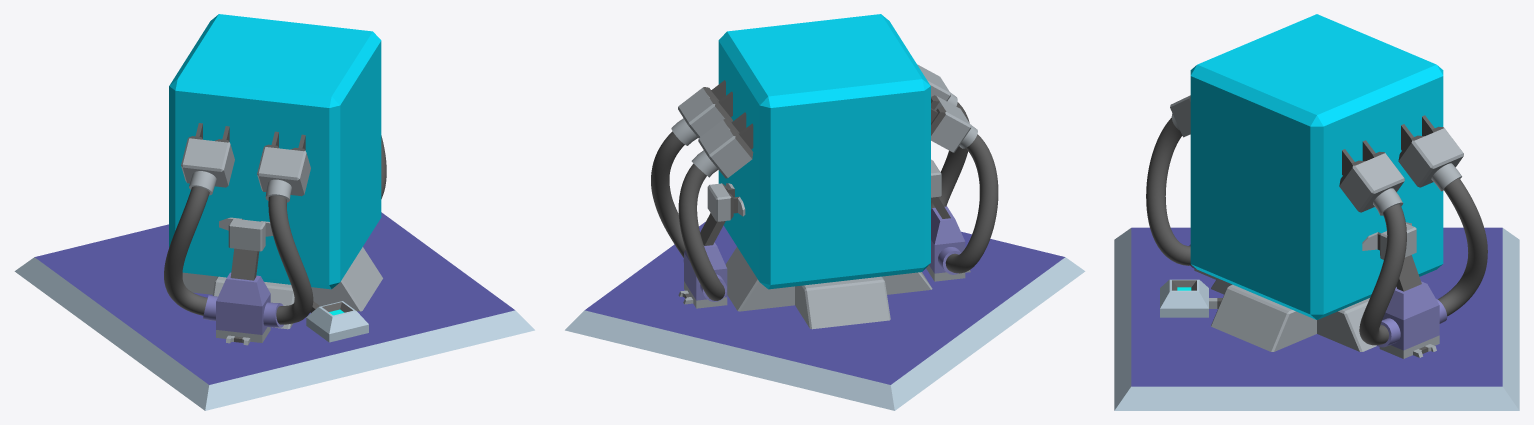
The model's file is Reservoir7.fbx.
The picture shows the model from 3 angles, left to right: view 1: azimuth 30°, elevation 25°; view 2: azimuth 150°, elevation 25°; view 3: azimuth 270°, elevation 25°; orthographic projection. The views are drawn at different scales.
Parts seen in each view (by area): view 1: pCube114, foundation_7, pCube143, pCylinder105, installation7, pCylinder106, pCube155, pCube156, alch_base7, pCube119; view 2: pCube114, foundation_7, installation7, pCylinder106 (×2), pCylinder105 (×2), pCube156 (×2), pCube155 (×2), pCube143, pCube157, pCube119; view 3: pCube114, foundation_7, pCylinder105 (×2), installation7, pCylinder106, pCube157, pCube155 (×2), pCube156, alch_base7, pCube119.
Part boxes in pixels (left/top/right/bottom): pCube114: left=169, top=14, right=381, bottom=289; foundation_7: left=14, top=212, right=534, bottom=410; pCube143: left=216, top=248, right=270, bottom=342; pCylinder105: left=263, top=179, right=313, bottom=327; installation7: left=182, top=247, right=382, bottom=329; pCylinder106: left=164, top=171, right=217, bottom=320; pCube155: left=257, top=131, right=310, bottom=196; pCube156: left=181, top=123, right=234, bottom=187; alch_base7: left=306, top=301, right=368, bottom=342; pCube119: left=219, top=217, right=272, bottom=251; pCube114: left=718, top=14, right=930, bottom=289; foundation_7: left=565, top=221, right=1085, bottom=410; installation7: left=725, top=247, right=932, bottom=329; pCylinder106 (×2): left=651, top=118, right=998, bottom=274; pCylinder105 (×2): left=678, top=92, right=969, bottom=301; pCube156 (×2): left=678, top=80, right=971, bottom=152; pCube155 (×2): left=698, top=64, right=950, bottom=178; pCube143: left=926, top=197, right=965, bottom=281; pCube157: left=684, top=213, right=727, bottom=308; pCube119: left=707, top=183, right=745, bottom=221; pCube114: left=1190, top=14, right=1443, bottom=319; foundation_7: left=1114, top=227, right=1519, bottom=410; pCylinder105 (×2): left=1146, top=113, right=1487, bottom=323; installation7: left=1211, top=278, right=1376, bottom=351; pCylinder106: left=1359, top=188, right=1406, bottom=347; pCube157: left=1379, top=255, right=1439, bottom=358; pCube155 (×2): left=1170, top=95, right=1463, bottom=187; pCube156: left=1339, top=140, right=1404, bottom=212; alch_base7: left=1160, top=279, right=1208, bottom=317; pCube119: left=1362, top=222, right=1416, bottom=259.
Size of the model in its own units: 2 by 1.42 by 2.
